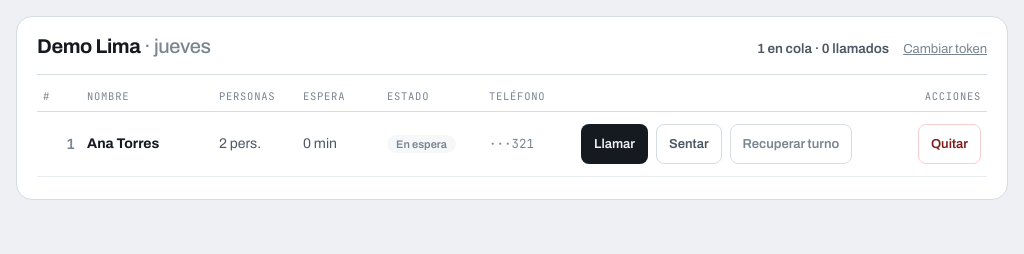
Scenario: TabletPage: acciones › 409 muestra el aviso y refresca la cola (un GET nuevo despues de la accion)
The image size is (1024, 254).
expect the text "Ana Torres" is shown: met, box x1=87 y1=136 x2=159 y2=151
Click the button "Llamar": (614, 144) x1=581 y1=124 x2=648 y2=164
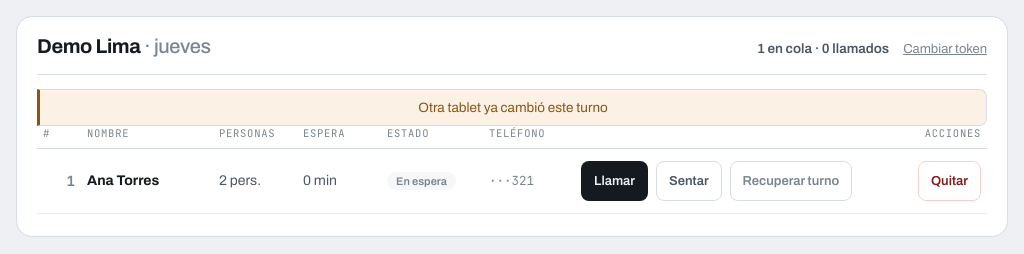
expect the text "Otra tablet ya cambió este turno" is shown: met, box x1=37 y1=88 x2=987 y2=126
